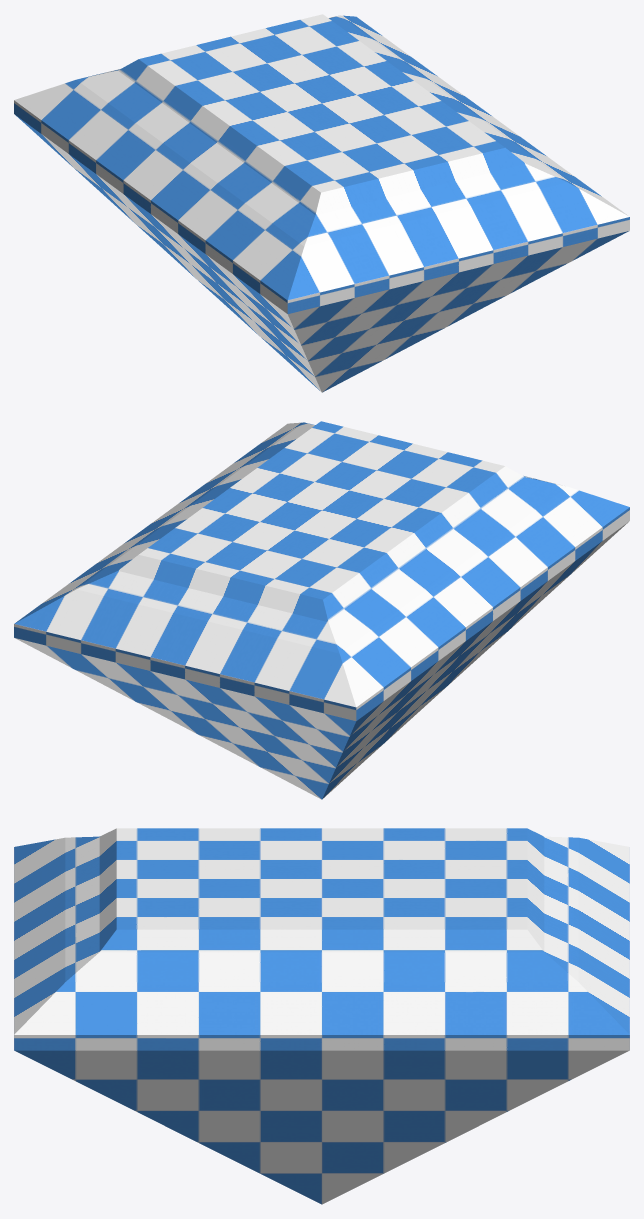
Rendered from BaguetteCutPointy.FBX.
3 views of the same model, one above another, from view 1: azimuth 30°, elevation 25°; view 2: azimuth 150°, elevation 25°; view 3: azimuth 270°, elevation 25° (orthographic). The views are drawn at different scales.
Parts seen in each view (by area): view 1: BaguetteCutPointy; view 2: BaguetteCutPointy; view 3: BaguetteCutPointy.
Part boxes in pixels (bbox=[...]): BaguetteCutPointy: bbox=[14, 14, 629, 392]; BaguetteCutPointy: bbox=[14, 421, 629, 799]; BaguetteCutPointy: bbox=[14, 828, 629, 1204].
Size of the model in its own units: 0.8255 by 0.6667 by 1.14.
